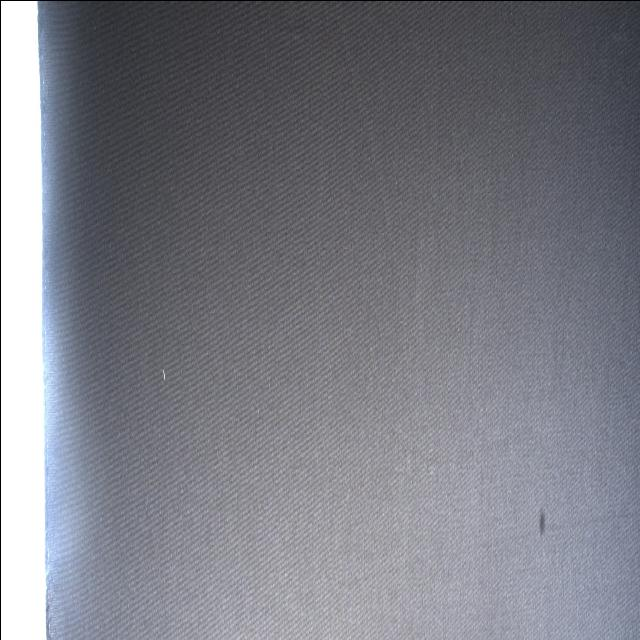crease: (335, 7, 400, 298), (392, 420, 520, 469)
whiteDefect: (161, 366, 165, 388)
